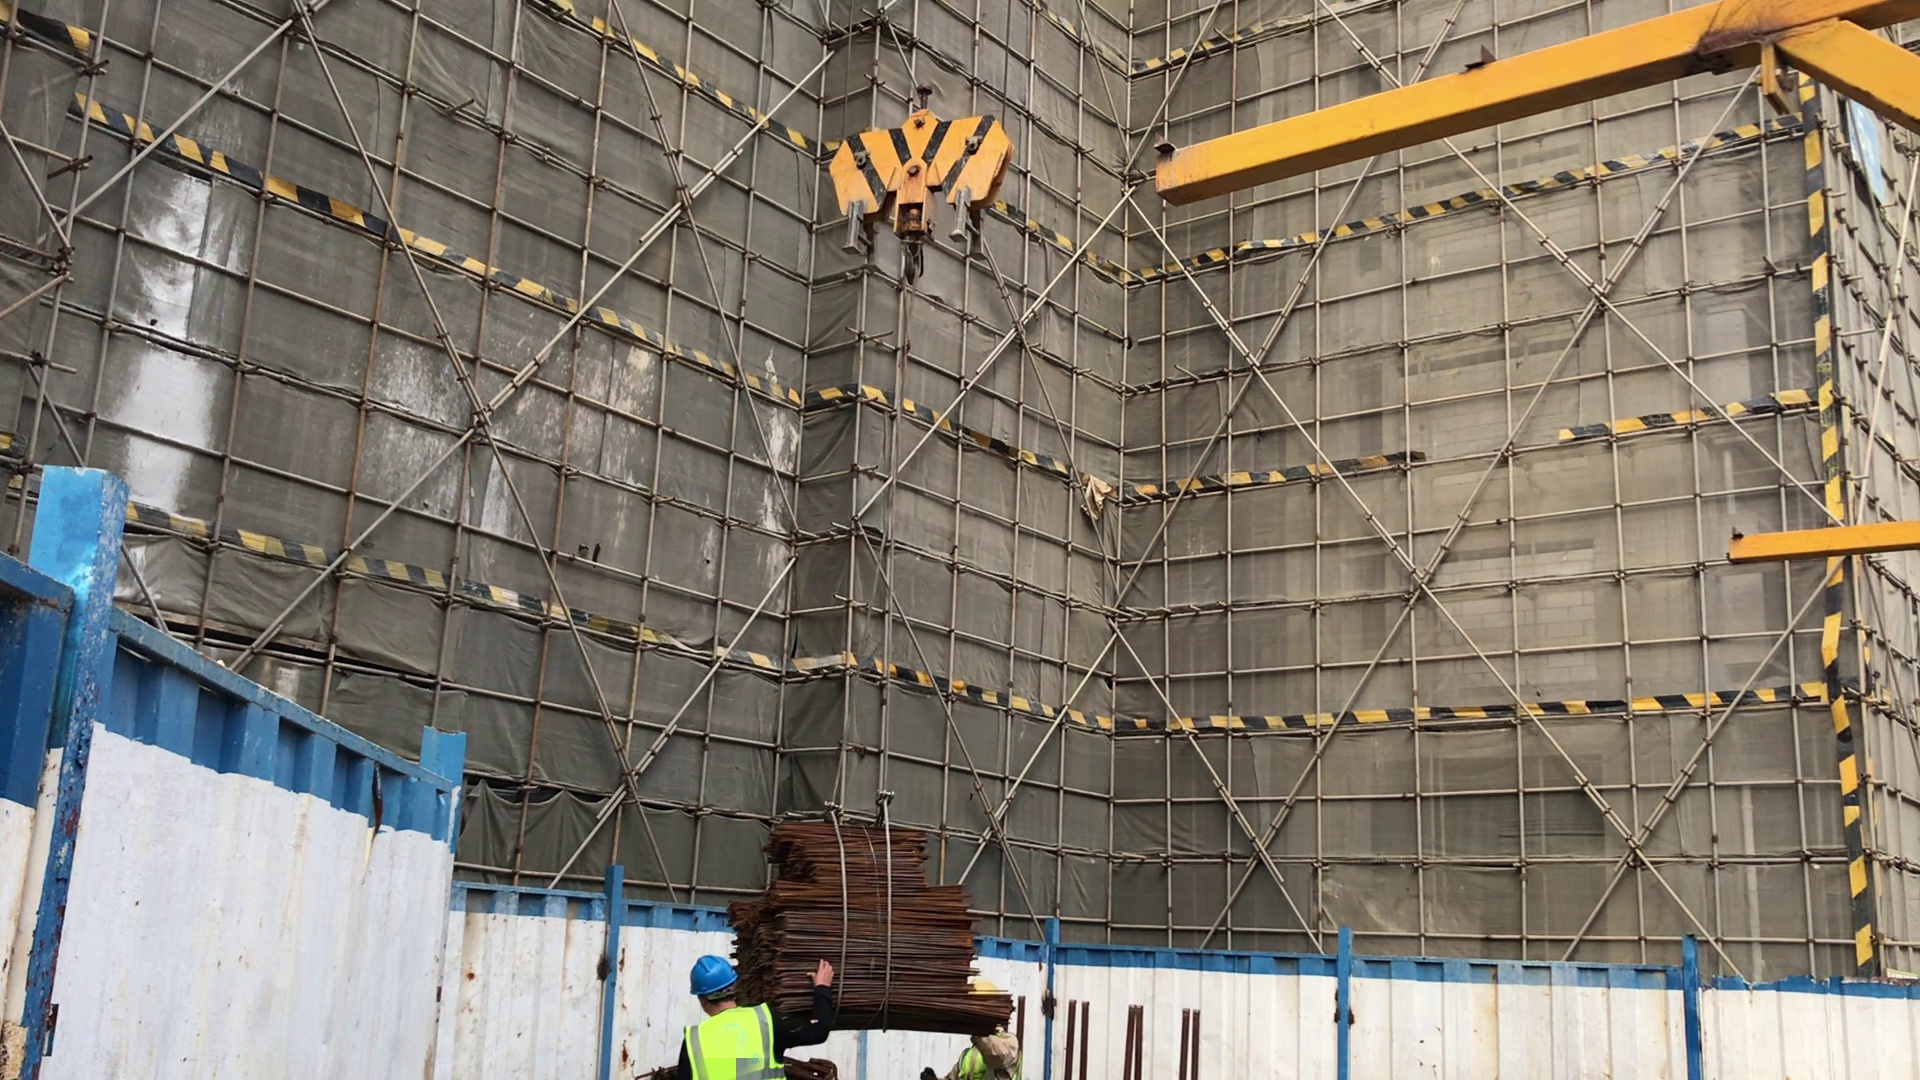helmet: (685, 952, 744, 1004)
hook: (825, 97, 1012, 284)
person: (676, 942, 835, 1076), (950, 977, 1027, 1080)
vest: (685, 1004, 782, 1079), (963, 1042, 1012, 1080)
